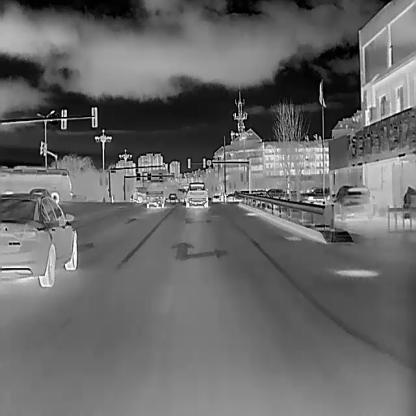car: (0, 192, 78, 287), (0, 164, 73, 202), (332, 184, 376, 220), (184, 181, 208, 208), (145, 179, 166, 207), (300, 186, 330, 201), (132, 186, 148, 203), (266, 188, 283, 197), (168, 193, 177, 203), (211, 194, 220, 202)
